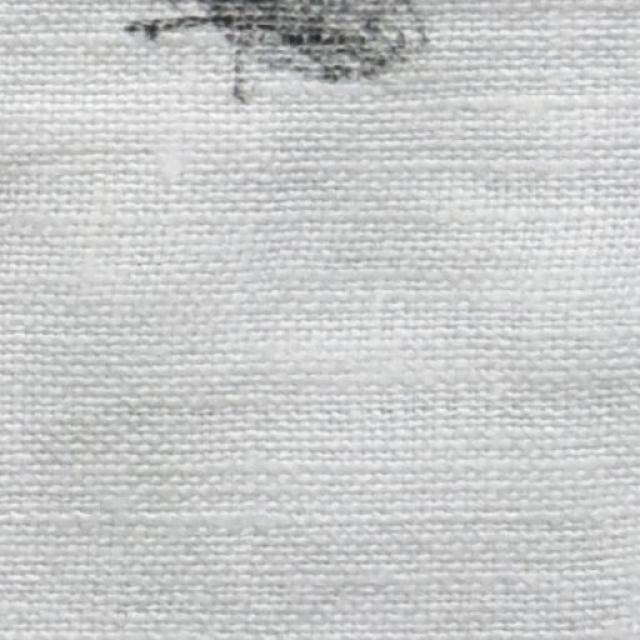Stain: (125, 0, 430, 98)
